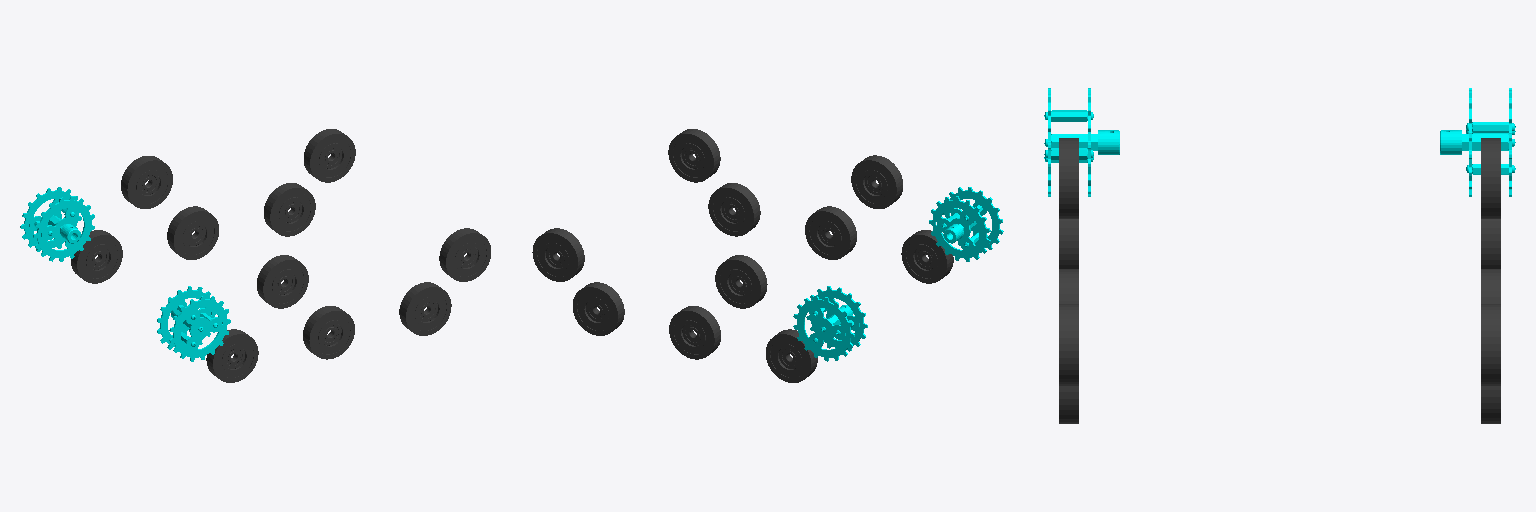
--- What the picture shows (computed from the rendered views, not written in the file) ---
The picture shows the robot from 3 angles, left to right: view 1: azimuth 30°, elevation 25°; view 2: azimuth 150°, elevation 25°; view 3: azimuth 270°, elevation 25°; orthographic projection.
Robot: dkrobot — 18 links, 17 joints (12 continuous, 5 fixed); root link base_footprint; default pose: all joints at 0.
Links seen in each view (by area): view 1: L_BCD, R_BCD, R_BBD4, L_BBD5, R_BBD2, R_BBD3, L_BBD2, L_BBD3, R_BBD5, L_BBD4, L_BBD1, R_BBD1; view 2: L_BCD, R_BCD, L_BBD5, L_BBD2, L_BBD4, R_BBD2, R_BBD5, L_BBD3, R_BBD4, R_BBD3, R_BBD1, L_BBD1; view 3: R_BCD, L_BCD, L_BBD5, R_BBD5, L_BBD2, R_BBD2, L_BBD1, R_BBD1, L_BBD4, R_BBD4, L_BBD3, R_BBD3.
Link boxes in pixels (box(x1,y1,x2,y2)): L_BCD: box(20, 187, 94, 261); R_BCD: box(157, 286, 230, 361); R_BBD4: box(399, 282, 451, 335); L_BBD5: box(304, 129, 355, 182); R_BBD2: box(257, 255, 308, 308); R_BBD3: box(303, 306, 354, 359); L_BBD2: box(121, 156, 172, 208); L_BBD3: box(167, 206, 218, 259); R_BBD5: box(439, 228, 490, 281); L_BBD4: box(264, 183, 315, 236); L_BBD1: box(71, 230, 122, 283); R_BBD1: box(206, 329, 258, 382); L_BCD: box(793, 286, 867, 361); R_BCD: box(929, 187, 1003, 261); L_BBD5: box(532, 228, 584, 281); L_BBD2: box(715, 255, 767, 308); L_BBD4: box(573, 282, 624, 335); R_BBD2: box(851, 155, 902, 208); R_BBD5: box(668, 129, 720, 182); L_BBD3: box(669, 306, 720, 359); R_BBD4: box(708, 183, 760, 236); R_BBD3: box(805, 206, 856, 259); R_BBD1: box(901, 230, 953, 283); L_BBD1: box(766, 329, 817, 382); R_BCD: box(1044, 88, 1119, 196); L_BCD: box(1440, 88, 1515, 196); L_BBD5: box(1481, 304, 1500, 385); R_BBD5: box(1059, 304, 1078, 385); L_BBD2: box(1481, 138, 1500, 218); R_BBD2: box(1059, 138, 1078, 218); L_BBD1: box(1481, 219, 1500, 268); R_BBD1: box(1059, 219, 1078, 268); L_BBD4: box(1481, 386, 1500, 423); R_BBD4: box(1059, 386, 1078, 423); L_BBD3: box(1481, 269, 1500, 303); R_BBD3: box(1059, 269, 1078, 303).
Bounding box of the posed robot: 0.2847 × 0.2301 × 0.092 m (x, y, z).
12 mesh visuals loaded from 17 distinct referenced files (12 binary STL); not drawn: 5 (reference not matched to a file when rendering).

robot.urdf — dkrobot:
<?xml version="1.0" encoding="utf-8"?>
<!-- This URDF was automatically created by SolidWorks to URDF Exporter! Originally created by Stephen Brawner ([email redacted]) 
     Commit Version: 1.5.1-0-g916b5db  Build Version: 1.5.7152.31018
     For more information, please see http://wiki.ros.org/sw_urdf_exporter -->
<robot name="dkrobot">
  <link name="base_footprint"/>
  <joint name="base_footprint_joint" type="fixed">
    <parent link="base_footprint"/>
    <child link="base_link"/>
  </joint>
  <link name="base_link">
    <inertial>
      <origin xyz="-0.012258 0.00026839 0.072674" rpy="0 0 0" />
      <mass value="1.0367" />
      <inertia
        ixx="0.00085906"
        ixy="-1.2002E-08"
        ixz="7.8624E-06"
        iyy="0.0023555"
        iyz="1.6628E-11"
        izz="0.0029948" />
    </inertial>
    <visual>
      <origin xyz="0 0 0" rpy="0 0 0" />
      <geometry>
        <mesh filename="package://dkrobot/meshes/base_link.STL" />
      </geometry>
      <material
        name="">
        <color
          rgba="0.64706 0.61961 0.58824 1" />
      </material>
    </visual>
    <collision>
      <origin
        xyz="0 0 0"
        rpy="0 0 0" />
      <geometry>
        <box size = "0.310 0.250 -0.1"/>
      </geometry>
    </collision>
  </link>
  <link name="L_BCD">
    <inertial>
      <origin
        xyz="3.0497E-05 -2.6743E-05 -0.003944"
        rpy="0 0 0" />
      <mass value="0.036285" />
      <inertia
        ixx="3.951E-06"
        ixy="1.478E-10"
        ixz="3.6208E-10"
        iyy="3.9434E-06"
        iyz="5.3817E-09"
        izz="4.4119E-06" />
    </inertial>
    <visual>
      <origin
        xyz="0 0 0"
        rpy="0 0 0" />
      <geometry>
        <mesh
          filename="package://dkrobot/meshes/L_BCD.STL" />
      </geometry>
      <material
        name="cylan">
        <color
          rgba="0 1 1 1" />
      </material>
    </visual>
    <collision>
      <origin
        xyz="0 0 0"
        rpy="0 0 0" />
      <geometry>
        <cylinder radius="0.027" length="0.02"/>
      </geometry>
    </collision>
  </link>
  <joint name="L_BCD_joint" type="continuous">
    <origin
      xyz="-0.108347290534696 0.103000000000001 0.0599596544378096"
      rpy="-1.57079632679491 0 0" />
    <parent link="base_link" />
    <child link="L_BCD" />
    <axis xyz="0 0 1" />
    <dynamics friction="200" />
  </joint>
  <link name="L_Xich">
    <inertial>
      <origin xyz="-0.0015513 -0.050389 5.2454E-08" rpy="0 0 0" />
      <mass value="0.055395" />
      <inertia
        ixx="6.1539E-06"
        ixy="-9.062E-08"
        ixz="-2.2837E-13"
        iyy="6.3743E-06"
        iyz="-3.3691E-15"
        izz="6.9787E-07" />
    </inertial>
    <visual>
      <origin
        xyz="0 0 0"
        rpy="0 0 0" />
      <geometry>
        <mesh
          filename="package://dkrobot/meshes/L_Xich.STL" />
      </geometry>
      <material
        name="brown">
        <color
          rgba="0.50196 0.50196 0.50196 1" />
      </material>
    </visual>
    <collision>
      <origin
        xyz="0 0 0"
        rpy="0 0 0" />
      <geometry>
        <mesh
          filename="package://dkrobot/meshes/L_Xich.STL" />
      </geometry>
    </collision>
  </link>
  <joint name="L_Xich_joint" type="fixed">
    <origin xyz="0.118514569646034 0.0599599572469961 0" rpy="0 0 0" />
    <parent link="L_BCD" />
    <child link="L_Xich" />
    <axis xyz="0 0 0" />
    <dynamics friction="200" />
  </joint>
  <link name="R_BCD">
    <inertial>
      <origin xyz="1.7212E-05 -4.1015E-06 0.003944" rpy="0 0 0" />
      <mass value="0.036285" />
      <inertia
        ixx="3.951E-06"
        ixy="-1.478E-10"
        ixz="3.6208E-10"
        iyy="3.9434E-06"
        iyz="-5.3817E-09"
        izz="4.4119E-06" />
    </inertial>
    <visual>
      <origin
        xyz="0 0 0"
        rpy="0 0 0" />
      <geometry>
        <mesh
          filename="package://dkrobot/meshes/R_BCD.STL" />
      </geometry>
      <material
        name="cylan">
        <color rgba="0 1 1 1"/>
      </material>
    </visual>
    <collision>
      <origin
        xyz="0 0 0"
        rpy="0 0 0" />
      <geometry>
        <cylinder radius="0.027" length="0.02"/>
      </geometry>
    </collision>
  </link>
  <joint name="R_BCD_joint" type="continuous">
    <origin xyz="-0.108362582516028 -0.102999999999996 0.0599822962593122" rpy="-1.57079632679489 0 0" />
    <parent link="base_link" />
    <child link="R_BCD" />
    <axis xyz="0 0 1" />
    <dynamics friction="200" />
  </joint>
  <link name="R_xich">
    <inertial>
      <origin xyz="-0.0015513 -0.050389 5.2454E-08" rpy="0 0 0" />
      <mass value="0.055395" />
      <inertia
        ixx="6.1539E-06"
        ixy="-9.062E-08"
        ixz="-2.2839E-13"
        iyy="6.3743E-06"
        iyz="-3.3702E-15"
        izz="6.9787E-07" />
    </inertial>
    <visual>
      <origin xyz="0 0 0" rpy="0 0 0" />
      <geometry>
        <mesh filename="package://dkrobot/meshes/R_xich.STL" />
      </geometry>
      <material name="brown">
        <color rgba="0.50196 0.50196 0.50196 1" />
      </material>
    </visual>
    <collision>
      <origin
        xyz="0 0 0"
        rpy="0 0 0" />
      <geometry>
        <mesh
          filename="package://dkrobot/meshes/R_xich.STL" />
      </geometry>
    </collision>
  </link>
  <joint name="R_xich_joint" type="fixed">
    <origin
      xyz="0.11852540365011 0.0599825989082124 0"
      rpy="0 0 2.97800086403757E-05" />
    <parent link="R_BCD" />
    <child link="R_xich" />
    <axis xyz="0 0 0" />
    <dynamics friction="200" />
  </joint>
  <link name="L_BBD1">
    <inertial>
      <origin xyz="7.2828E-07 2.3201E-07 3.5107E-07" rpy="0 0 0" />
      <mass value="0.018151" />
      <inertia
        ixx="1.4698E-06"
        ixy="-2.3366E-11"
        ixz="-3.6994E-11"
        iyy="1.4699E-06"
        iyz="-1.1775E-11"
        izz="2.7399E-06" />
    </inertial>
    <visual>
      <origin xyz="0 0 0" rpy="0 0 0" />
      <geometry>
        <mesh filename="package://dkrobot/meshes/L_BBD1.STL" />
      </geometry>
      <material name="black"> <color rgba="0.29804 0.29804 0.29804 1" />
      </material>
    </visual>
    <collision>
      <origin xyz="0 0 0" rpy="0 0 0" />
      <geometry>
        <cylinder radius="0.02" length="0.016"/>
      </geometry>
    </collision>
  </link>
  <joint name="L_BBD1_joint" type="continuous">
    <origin xyz="-0.0743310822413043 0.103000000000001 0.0249996971806272" rpy="-1.57079632679491 0 0" />
    <parent link="base_link" />
    <child link="L_BBD1" />
    <axis xyz="0 0 1" />
    <dynamics friction="200" />
  </joint>
  <link name="L_BBD2">
    <inertial>
      <origin xyz="-7.5483E-07 1.2019E-07 3.5107E-07" rpy="0 0 0" />
      <mass value="0.018151" />
      <inertia
        ixx="1.4698E-06"
        ixy="1.2619E-11"
        ixz="3.8339E-11"
        iyy="1.4699E-06"
        iyz="-6.114E-12"
        izz="2.7399E-06" />
    </inertial>
    <visual>
      <origin xyz="0 0 0" rpy="0 0 0" />
      <geometry>
        <mesh filename="package://dkrobot/meshes/L_BBD2.STL" />
      </geometry>
      <material
        name="black">
        <color
          rgba="0.29804 0.29804 0.29804 1" />
      </material>
    </visual>
    <collision>
      <origin
        xyz="0 0 0"
        rpy="0 0 0" />
      <geometry>
        <cylinder radius="0.02" length="0.016"/>
      </geometry>
    </collision>
  </link>
  <joint name="L_BBD2_joint" type="continuous">
    <origin
      xyz="-0.0303310822413043 0.103000000000001 0.0769996971806272"
      rpy="-1.57079632679491 0 0" />
    <parent link="base_link" />
    <child link="L_BBD2" />
    <axis xyz="0 0 1" />
    <dynamics friction="200" />
  </joint>
  <link name="L_BBD3">
    <inertial>
      <origin
        xyz="7.4679E-07 1.6288E-07 3.5107E-07"
        rpy="0 0 0" />
      <mass value="0.018151" />
      <inertia
        ixx="1.4698E-06"
        ixy="-1.6803E-11"
        ixz="-3.7934E-11"
        iyy="1.4699E-06"
        iyz="-8.2638E-12"
        izz="2.7399E-06" />
    </inertial>
    <visual>
      <origin
        xyz="0 0 0"
        rpy="0 0 0" />
      <geometry>
        <mesh
          filename="package://dkrobot/meshes/L_BBD3.STL" />
      </geometry>
      <material
        name="black">
        <color
          rgba="0.29804 0.29804 0.29804 1" />
      </material>
    </visual>
    <collision>
      <origin
        xyz="0 0 0"
        rpy="0 0 0" />
      <geometry>
        <cylinder radius="0.02" length="0.016"/>
      </geometry>
    </collision>
  </link>
  <joint name="L_BBD3_joint" type="continuous">
    <origin
      xyz="0.0101689177586957 0.103000000000001 0.0249996971806272"
      rpy="-1.57079632679491 0 0" />
    <parent link="base_link" />
    <child link="L_BBD3" />
    <axis xyz="0 0 1" />
    <dynamics friction="200" />
  </joint>
  <link name="L_BBD4">
    <inertial>
      <origin
        xyz="6.5481E-07 3.9426E-07 3.5107E-07"
        rpy="0 0 0" />
      <mass
        value="0.018151" />
      <inertia
        ixx="1.4699E-06"
        ixy="-3.5742E-11"
        ixz="-3.3265E-11"
        iyy="1.4699E-06"
        iyz="-2.0018E-11"
        izz="2.7399E-06" />
    </inertial>
    <visual>
      <origin
        xyz="0 0 0"
        rpy="0 0 0" />
      <geometry>
        <mesh
          filename="package://dkrobot/meshes/L_BBD4.STL" />
      </geometry>
      <material
        name="black">
        <color
          rgba="0.29804 0.29804 0.29804 1" />
      </material>
    </visual>
    <collision>
      <origin
        xyz="0 0 0"
        rpy="0 0 0" />
      <geometry>
        <cylinder radius="0.02" length="0.016"/>
      </geometry>
    </collision>
  </link>
  <joint name="L_BBD4_joint" type="continuous">
    <origin xyz="0.0946689177586958 0.103000000000001 0.0249996971806272" rpy="-1.5707963267949 0 0" />
    <parent link="base_link" />
    <child link="L_BBD4" />
    <axis xyz="0 0 1" />
    <dynamics friction="200" />
  </joint>
  <link name="L_BBD5">
    <inertial>
      <origin xyz="7.5148E-07 1.3964E-07 3.5107E-07" rpy="0 0 0" />
      <mass value="0.018151" />
      <inertia
        ixx="1.4698E-06"
        ixy="-1.4488E-11"
        ixz="-3.8172E-11"
        iyy="1.4699E-06"
        iyz="-7.0833E-12"
        izz="2.7399E-06" />
    </inertial>
    <visual>
      <origin xyz="0 0 0" rpy="0 0 0" />
      <geometry>
        <mesh filename="package://dkrobot/meshes/L_BBD5.STL" />
      </geometry>
      <material name="black">
        <color rgba="0.29804 0.29804 0.29804 1" />
      </material>
    </visual>
    <collision>
      <origin xyz="0 0 0" rpy="0 0 0" />
      <geometry>
        <cylinder radius="0.02" length="0.016"/>
      </geometry>
    </collision>
  </link>
  <joint name="L_BBD5_joint" type="continuous">
    <origin xyz="0.129668917758696 0.103000000000001 0.0619996971806273" rpy="-1.5707963267949 0 0" />
    <parent link="base_link" />
    <child link="L_BBD5" />
    <axis xyz="0 0 1" />
    <dynamics friction="200" />
  </joint>
  <link name="R_BBD1">
    <inertial>
      <origin xyz="-1.7175E-07 -7.4479E-07 -3.5107E-07" rpy="0 0 0" />
      <mass value="0.018151" />
      <inertia
        ixx="1.4699E-06"
        ixy="-1.7675E-11"
        ixz="-8.7146E-12"
        iyy="1.4698E-06"
        iyz="-3.7833E-11"
        izz="2.7399E-06" />
    </inertial>
    <visual>
      <origin
        xyz="0 0 0"
        rpy="0 0 0" />
      <geometry>
        <mesh
          filename="package://dkrobot/meshes/R_BBD1.STL" />
      </geometry>
      <material
        name="black">
        <color
          rgba="0.29804 0.29804 0.29804 1" />
      </material>
    </visual>
    <collision>
      <origin
        xyz="0 0 0"
        rpy="0 0 0" />
      <geometry>
        <cylinder radius="0.02" length="0.016"/>
      </geometry>
    </collision>
  </link>
  <joint name="R_BBD1_joint" type="continuous">
    <origin
      xyz="-0.0743310822413064 -0.102999999999997 0.024999697180628"
      rpy="-1.5707963267949 0 0" />
    <parent link="base_link" />
    <child link="R_BBD1" />
    <axis xyz="0 0 1" />
    <dynamics friction="200" />
  </joint>
  <link name="R_BBD2">
    <inertial>
      <origin
        xyz="-7.6209E-07 5.8592E-08 -3.5107E-07"
        rpy="0 0 0" />
      <mass value="0.018151" />
      <inertia
        ixx="1.4698E-06"
        ixy="6.1336E-12"
        ixz="-3.871E-11"
        iyy="1.4699E-06"
        iyz="2.9666E-12"
        izz="2.7399E-06" />
    </inertial>
    <visual>
      <origin
        xyz="0 0 0"
        rpy="0 0 0" />
      <geometry>
        <mesh
          filename="package://dkrobot/meshes/R_BBD2.STL" />
      </geometry>
      <material
        name="black">
        <color
          rgba="0.29804 0.29804 0.29804 1" />
      </material>
    </visual>
    <collision>
      <origin
        xyz="0 0 0"
        rpy="0 0 0" />
      <geometry>
        <cylinder radius="0.02" length="0.016"/>
      </geometry>
    </collision>
  </link>
  <joint name="R_BBD2_joint" type="continuous">
    <origin
      xyz="-0.0303310822413065 -0.102999999999997 0.0769996971806279"
      rpy="-1.5707963267949 0 0" />
    <parent link="base_link" />
    <child link="R_BBD2" />
    <axis xyz="0 0 1" />
    <dynamics friction="200" />
  </joint>
  <link name="R_BBD3">
    <inertial>
      <origin
        xyz="-5.1491E-08 -7.626E-07 -3.5107E-07"
        rpy="0 0 0" />
      <mass value="0.018151" />
      <inertia
        ixx="1.4699E-06"
        ixy="-5.3874E-12"
        ixz="-2.6059E-12"
        iyy="1.4698E-06"
        iyz="-3.8736E-11"
        izz="2.7399E-06" />
    </inertial>
    <visual>
      <origin
        xyz="0 0 0"
        rpy="0 0 0" />
      <geometry>
        <mesh
          filename="package://dkrobot/meshes/R_BBD3.STL" />
      </geometry>
      <material
        name="black">
        <color
          rgba="0.29804 0.29804 0.29804 1" />
      </material>
    </visual>
    <collision>
      <origin
        xyz="0 0 0"
        rpy="0 0 0" />
      <geometry>
        <cylinder radius="0.02" length="0.016"/>
      </geometry>
    </collision>
  </link>
  <joint name="R_BBD3_joint" type="continuous">
    <origin
      xyz="0.0101689177586936 -0.102999999999999 0.0249996971806279"
      rpy="-1.5707963267949 0 0" />
    <parent link="base_link" />
    <child link="R_BBD3" />
    <axis xyz="0 0 1" />
    <dynamics friction="200" />
  </joint>
  <link name="R_BBD4">
    <inertial>
      <origin
        xyz="4.6032E-08 -7.6295E-07 -3.5107E-07"
        rpy="0 0 0" />
      <mass value="0.018151" />
      <inertia
        ixx="1.4699E-06"
        ixy="4.9186E-12"
        ixz="2.3476E-12"
        iyy="1.4698E-06"
        iyz="-3.8752E-11"
        izz="2.7399E-06" />
    </inertial>
    <visual>
      <origin
        xyz="0 0 0"
        rpy="0 0 0" />
      <geometry>
        <mesh
          filename="package://dkrobot/meshes/R_BBD4.STL" />
      </geometry>
      <material name="black">
        <color
          rgba="0.29804 0.29804 0.29804 1" />
      </material>
    </visual>
    <collision>
      <origin
        xyz="0 0 0"
        rpy="0 0 0" />
      <geometry>
        <cylinder radius="0.02" length="0.016"/>
      </geometry>
    </collision>
  </link>
  <joint name="R_BBD4_joint" type="continuous">
    <origin
      xyz="0.0946689177586935 -0.103000000000001 0.024999697180628"
      rpy="-1.5707963267949 0 0" />
    <parent link="base_link" />
    <child link="R_BBD4" />
    <axis xyz="0 0 1" />
    <dynamics friction="200" />
  </joint>
  <link name="R_BBD5">
    <inertial>
      <origin
        xyz="1.1695E-07 -7.5534E-07 -3.5107E-07"
        rpy="0 0 0" />
      <mass value="0.018151" />
      <inertia
        ixx="1.4699E-06"
        ixy="1.2289E-11"
        ixz="5.9496E-12"
        iyy="1.4698E-06"
        iyz="-3.8365E-11"
        izz="2.7399E-06" />
    </inertial>
    <visual>
      <origin
        xyz="0 0 0"
        rpy="0 0 0" />
      <geometry>
        <mesh
          filename="package://dkrobot/meshes/R_BBD5.STL" />
      </geometry>
      <material
        name="black">
        <color
          rgba="0.29804 0.29804 0.29804 1" />
      </material>
    </visual>
    <collision>
      <origin
        xyz="0 0 0"
        rpy="0 0 0" />
      <geometry>
        <cylinder radius="0.02" length="0.016"/>
      </geometry>
    </collision>
  </link>
  <joint name="R_BBD5_joint" type="continuous">
    <origin
      xyz="0.129668917758694 -0.103000000000001 0.061999697180628"
      rpy="-1.5707963267949 0 0" />
    <parent link="base_link" />
    <child link="R_BBD5" />
    <axis xyz="0 0 1" />
    <dynamics friction="200" />
  </joint>
  <link name="base_scan">
    <inertial>
      <origin
        xyz="-0.012128 0.00047915 -0.028964"
        rpy="0 0 0" />
      <mass value="0.57835" />
      <inertia
        ixx="0.000154"
        ixy="-8.1854E-07"
        ixz="3.3663E-06"
        iyy="0.00018973"
        iyz="-7.5462E-08"
        izz="0.00032548" />
    </inertial>
    <visual>
      <origin
        xyz="0 0 0"
        rpy="0 0 0" />
      <geometry>
        <mesh filename="package://dkrobot/meshes/base_scan.STL" />
      </geometry>
      <material name="orange"/>
    </visual>
    <collision>
      <origin xyz="0 0 0" rpy="0 0 0" />
      <geometry>
        <box size="0.105 0.08 0.04"/>
      </geometry>
    </collision>
  </link>
  <joint name="base_scan_joint" type="fixed">
    <origin xyz="0.00060691 0.00054999 0.2025" rpy="0 0 0" />
    <parent link="base_link" />
    <child link="base_scan" />
    <axis
      xyz="0 0 0" />
  </joint>
  <link name="imu_link">
    <inertial>
      <origin
        xyz="0 3.1442E-18 0.0015"
        rpy="0 0 0" />
      <mass
        value="0.001926" />
      <inertia
        ixx="1.4589E-07"
        ixy="4.2904E-24"
        ixz="-3.3072E-24"
        iyy="6.5645E-08"
        iyz="3.8686E-25"
        izz="2.0865E-07" />
    </inertial>
    <visual>
      <origin
        xyz="0 0 0"
        rpy="0 0 0" />
      <geometry>
        <mesh
          filename="package://dkrobot/meshes/imu_link.STL" />
      </geometry>
      <material name="blue"/>
    </visual>
  </link>
  <joint name="imu_joint" type="fixed">
    <origin
      xyz="-0.072331 0.00025 0.094"
      rpy="0 0 0" />
    <parent link="base_link" />
    <child link="imu_link" />
    <axis
      xyz="0 0 0" />
  </joint>

  <transmission name="L_BBD1_trans">
    <type>transmission_interface/SimpleTransmission</type>
    <actuator name="L_BBD1">
      <hardwareInterface>hardware_interface/VelocityJointInterface</hardwareInterface>
      <mechanicalReduction>1</mechanicalReduction>
    </actuator>
    <joint name="L_BBD1_joint">
      <hardwareInterface>hardware_interface/VelocityJointInterface</hardwareInterface>
    </joint>
  </transmission>
  <transmission name="R_BBD1_trans">
    <type>transmission_interface/SimpleTransmission</type>
    <actuator name="R_BBD1">
      <hardwareInterface>hardware_interface/VelocityJointInterface</hardwareInterface>
      <mechanicalReduction>1</mechanicalReduction>
    </actuator>
    <joint name="R_BBD1_joint">
      <hardwareInterface>hardware_interface/VelocityJointInterface</hardwareInterface>
    </joint>
  </transmission>
  <gazebo reference="L_BBD1">
    <mu1>0.1</mu1>
    <mu2>0.1</mu2>
    <kp>500000.0</kp>
    <kd>10.0</kd>
    <minDepth>0.001</minDepth>
    <maxVel>0.3</maxVel>
    <fdir1>1 0 0</fdir1>
    <material>Gazebo/FlatBlack</material>
  </gazebo>
  <gazebo reference="R_BBD1">
    <mu1>0.1</mu1>
    <mu2>0.1</mu2>
    <kp>500000.0</kp>
    <kd>10.0</kd>
    <minDepth>0.001</minDepth>
    <maxVel>0.3</maxVel>
    <fdir1>1 0 0</fdir1>
    <material>Gazebo/FlatBlack</material>
  </gazebo>
  <gazebo>
    <plugin name="differential_drive_controller" filename="libgazebo_ros_diff_drive.so">
      <commandTopic>cmd_vel</commandTopic>
      <odometryTopic>odom</odometryTopic>
      <odometryFrame>odom</odometryFrame>
      <odometrySource>world</odometrySource>
      <publishOdomTF>true</publishOdomTF>
      <robotBaseFrame>base_footprint</robotBaseFrame>
      <publishWheelTF>false</publishWheelTF>
      <publishTf>true</publishTf>
      <publishWheelJointState>true</publishWheelJointState>
      <legacyMode>false</legacyMode>
      <updateRate>30</updateRate>
      <leftJoint>L_BBD1_joint</leftJoint>
      <rightJoint>R_BBD1_joint</rightJoint>
      <wheelSeparation>0.206</wheelSeparation>
      <wheelDiameter>0.028765</wheelDiameter>
      <wheelAcceleration>1</wheelAcceleration>
      <wheelTorque>10</wheelTorque>
      <rosDebugLevel>na</rosDebugLevel>
    </plugin>
  </gazebo>
  <gazebo>
    <plugin name="imu_plugin" filename="libgazebo_ros_imu.so">
      <alwaysOn>true</alwaysOn>
      <bodyName>imu_link</bodyName>
      <frameName>imu_link</frameName>
      <topicName>imu</topicName>
      <serviceName>imu_service</serviceName>
      <gaussianNoise>0.0</gaussianNoise>
      <updateRate>0</updateRate>
      <imu>
        <noise>
          <type>gaussian</type>
          <rate>
            <mean>0.0</mean>
            <stddev>2e-4</stddev>
            <bias_mean>0.0000075</bias_mean>
            <bias_stddev>0.0000008</bias_stddev>
          </rate>
          <accel>
            <mean>0.0</mean>
            <stddev>1.7e-2</stddev>
            <bias_mean>0.1</bias_mean>
            <bias_stddev>0.001</bias_stddev>
          </accel>
        </noise>
      </imu>
    </plugin>
  </gazebo>

  <!-- <gazebo reference="base_scan">
    <material>Gazebo/Orange</material>
    <sensor type="gpu_ray" name="lds_lfcd_sensor">
      <pose>0 0 0 0 0 0</pose>
      <visualize>false</visualize>
      <update_rate>5</update_rate>
      <ray>
        <scan>
          <horizontal>
            <samples>360</samples>
            <resolution>1</resolution>
            <min_angle>0.0</min_angle>
            <max_angle>6.28319</max_angle>
          </horizontal>
        </scan>
        <range>
          <min>0.120</min>
          <max>3.5</max>
          <resolution>0.015</resolution>
        </range>
        <noise>
          <type>gaussian</type>
          <mean>0.0</mean>
          <stddev>0.01</stddev>
        </noise>
      </ray>
      <plugin name="gazebo_ros_lds_lfcd_controller" filename="libgazebo_ros_laser.so">
        <topicName>scan</topicName>
        <frameName>base_scan</frameName>
      </plugin>
    </sensor>
  </gazebo> -->
  <gazebo reference="base_link">
    <material>Gazebo/DarkGrey</material>
  </gazebo>
  <gazebo reference="L_BCD">
    <material>Gazebo/Cylan</material>
  </gazebo>
  <gazebo reference="R_BCD">
    <material>Gazebo/Cylan</material>
  </gazebo>
  <gazebo reference="L_BBD2">
    <material>Gazebo/Black</material>
  </gazebo>
  <gazebo reference="L_BBD3">
    <material>Gazebo/Black</material>
  </gazebo>
  <gazebo reference="L_BBD4">
    <material>Gazebo/Black</material>
  </gazebo>
  <gazebo reference="L_BBD5">
    <material>Gazebo/Black</material>
  </gazebo>
  <gazebo reference="R_BBD2">
    <material>Gazebo/Black</material>
  </gazebo>
  <gazebo reference="R_BBD3">
    <material>Gazebo/Black</material>
  </gazebo>
  <gazebo reference="R_BBD4">
    <material>Gazebo/Black</material>
  </gazebo>
  <gazebo reference="R_BBD5">
    <material>Gazebo/Black</material>
  </gazebo>

  <material name="black">
      <color rgba="0.0 0.0 0.0 1.0"/>
  </material>
  <material name="dark">
    <color rgba="0.3 0.3 0.3 1.0"/>
  </material>
  <material name="light_black">
    <color rgba="0.4 0.4 0.4 1.0"/>
  </material>
  <material name="blue">
    <color rgba="0.0 0.0 0.8 1.0"/>
  </material>
  <material name="green">
    <color rgba="0.0 0.8 0.0 1.0"/>
  </material>
  <material name="grey">
    <color rgba="0.5 0.5 0.5 1.0"/>
  </material>
  <material name="orange">
    <color rgba="1.0 0.4235 0.0392 1.0"/>
  </material>
  <material name="brown">
    <color rgba="0.871 0.812 0.7647 1.0"/>
  </material>
  <material name="red">
    <color rgba="0.8 0.0 0.0 1.0"/>
  </material>
  <material name="white">
    <color rgba="1.0 1.0 1.0 1.0"/>
  </material>
</robot>
